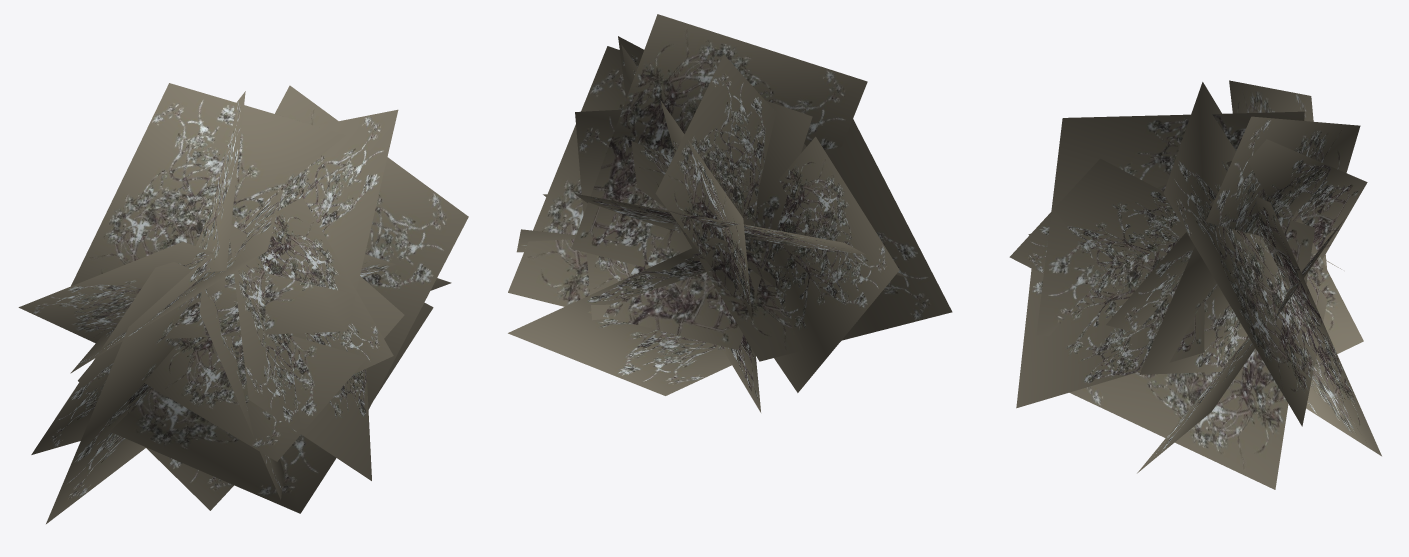
File: brush_snowbushweed02.glb
The picture shows the model from 3 angles, left to right: view 1: azimuth 30°, elevation 25°; view 2: azimuth 150°, elevation 25°; view 3: azimuth 270°, elevation 25°; orthographic projection. The views are drawn at different scales.
Bounding box in the file's own units: 129 × 133 × 97.98.
1 material, 1 textured.
